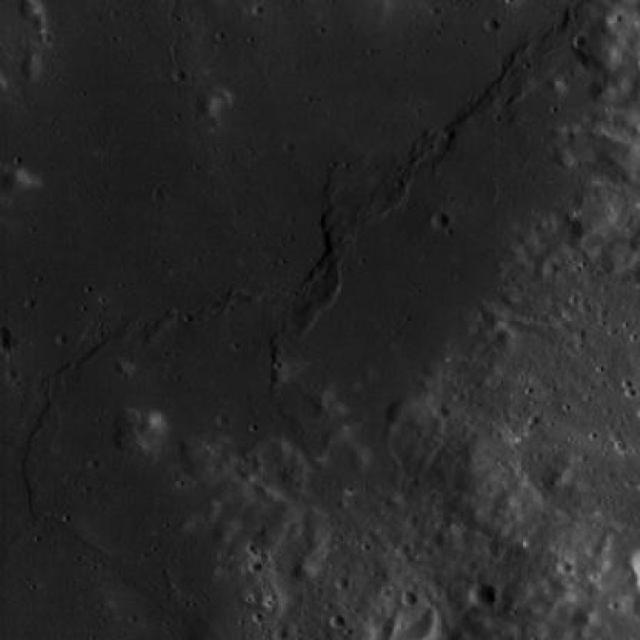crater: (470, 583, 498, 609), (618, 588, 640, 610), (370, 618, 392, 638), (430, 210, 448, 227), (400, 590, 418, 606), (0, 334, 11, 351)
